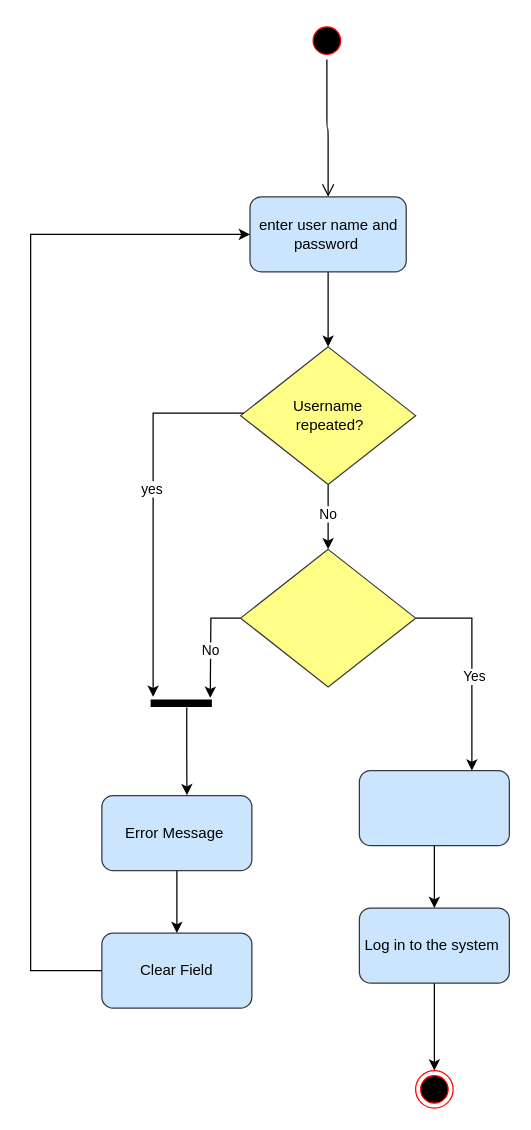
Some shapes in this 531 by 1130 pixel diagram are drawn without their labels. The shapes that lost their labels are listed below. From the top down, each one's centre as x and y in pixels, then its label:
At (x=327, y=617): "Password Valid ?".
At (x=433, y=807): "successfully registered".
